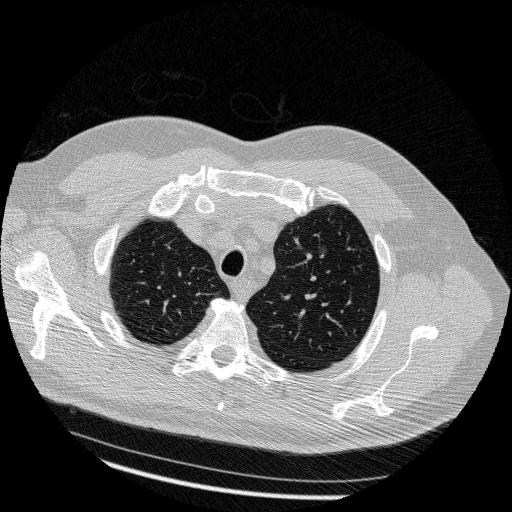nodule: (316, 242, 331, 257)
